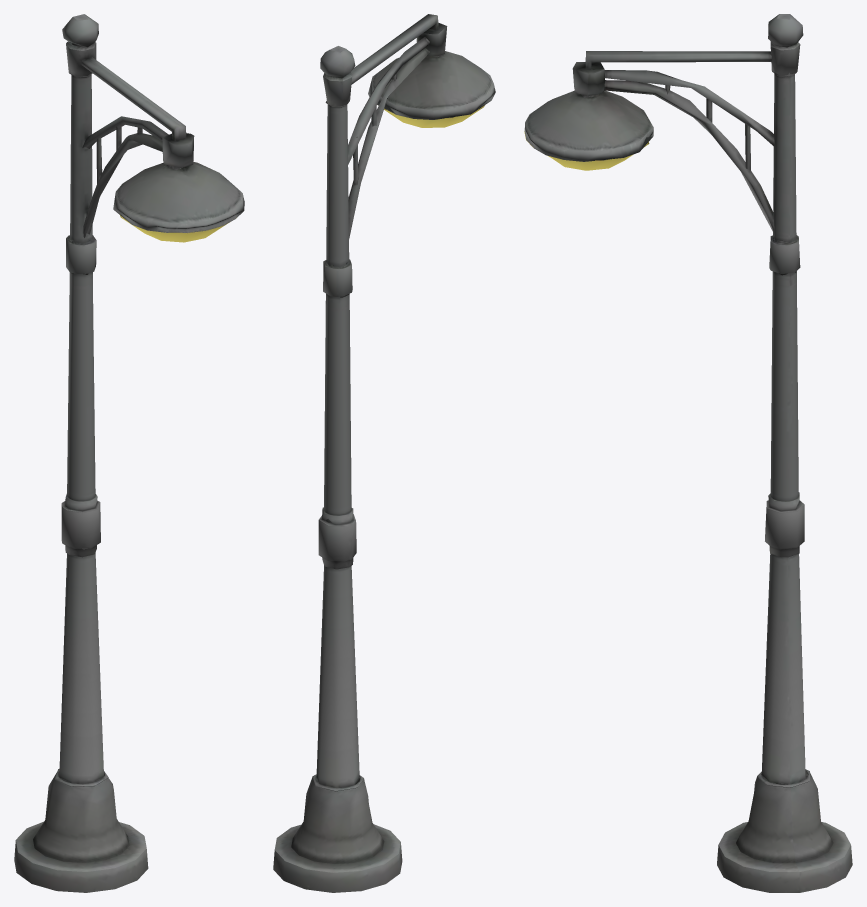
Rendered from PRP_CanalLamp_lod.glb.
3 renders of one model, left to right at view 1: azimuth 30°, elevation 25°; view 2: azimuth 150°, elevation 25°; view 3: azimuth 270°, elevation 25°, orthographic. The views are drawn at different scales.
Visible parts, largest first — view 1: SM_Street_Light_M_Street_Light_Pole_0, SM_Street_Light_M_Street_Light_Emission_0; view 2: SM_Street_Light_M_Street_Light_Pole_0, SM_Street_Light_M_Street_Light_Emission_0; view 3: SM_Street_Light_M_Street_Light_Pole_0.
Part boxes in pixels (x1,y1,x2,y2): SM_Street_Light_M_Street_Light_Pole_0: (14,14,244,892); SM_Street_Light_M_Street_Light_Emission_0: (120,215,236,242); SM_Street_Light_M_Street_Light_Pole_0: (273,14,495,892); SM_Street_Light_M_Street_Light_Emission_0: (384,105,484,127); SM_Street_Light_M_Street_Light_Pole_0: (524,14,852,892).
Size of the model in its own units: 0.4234 by 2.99 by 1.05.
Materials: 2 (2 with a texture image).
